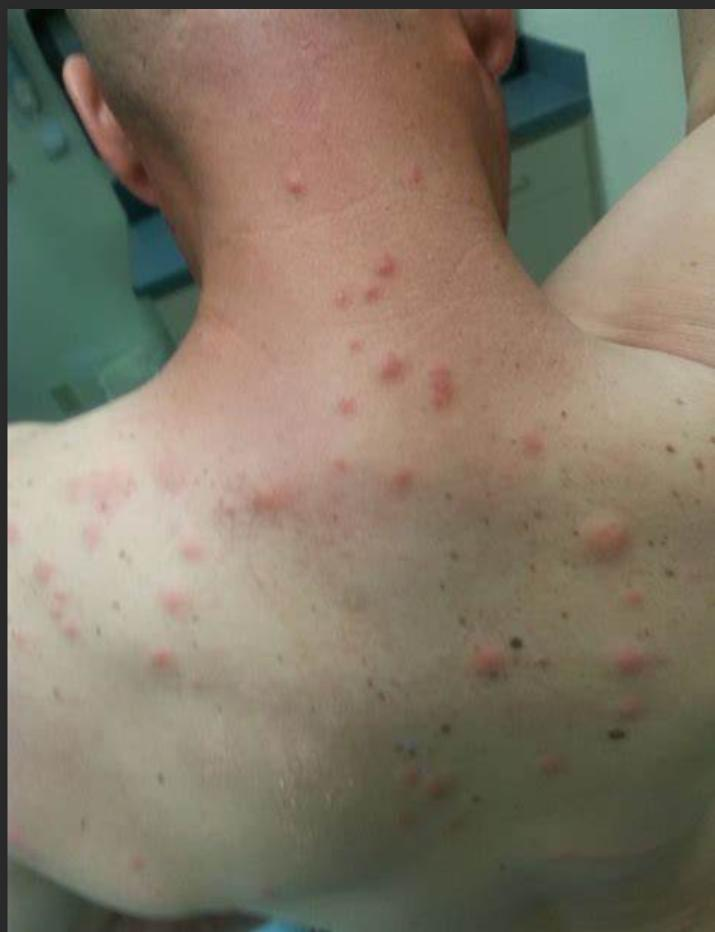Bed-bug: (278, 124, 497, 560), (461, 474, 685, 777), (36, 482, 217, 682)
